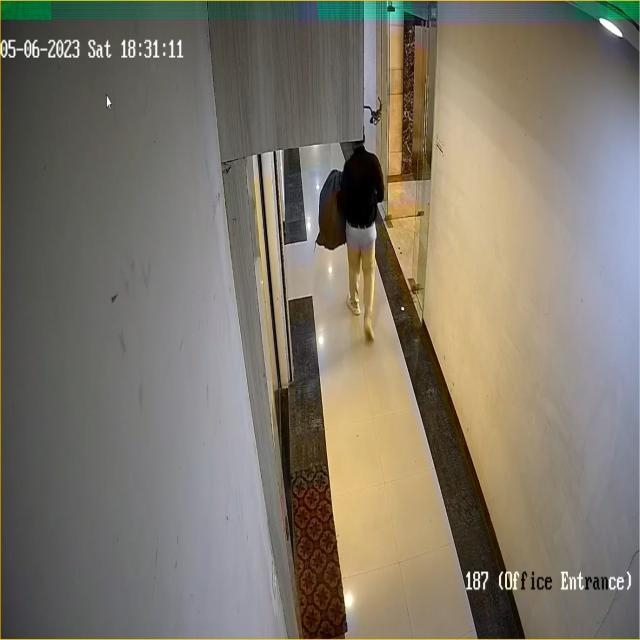gunny_bag: (312, 168, 348, 254)
